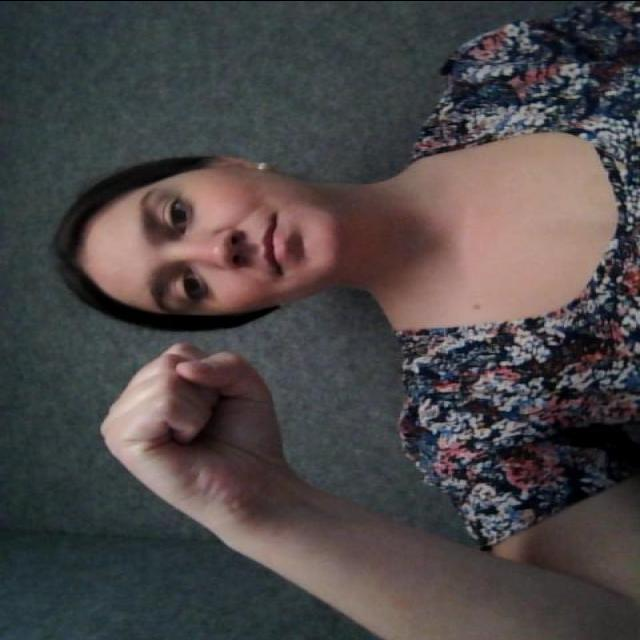Rock: (92, 330, 298, 533)
